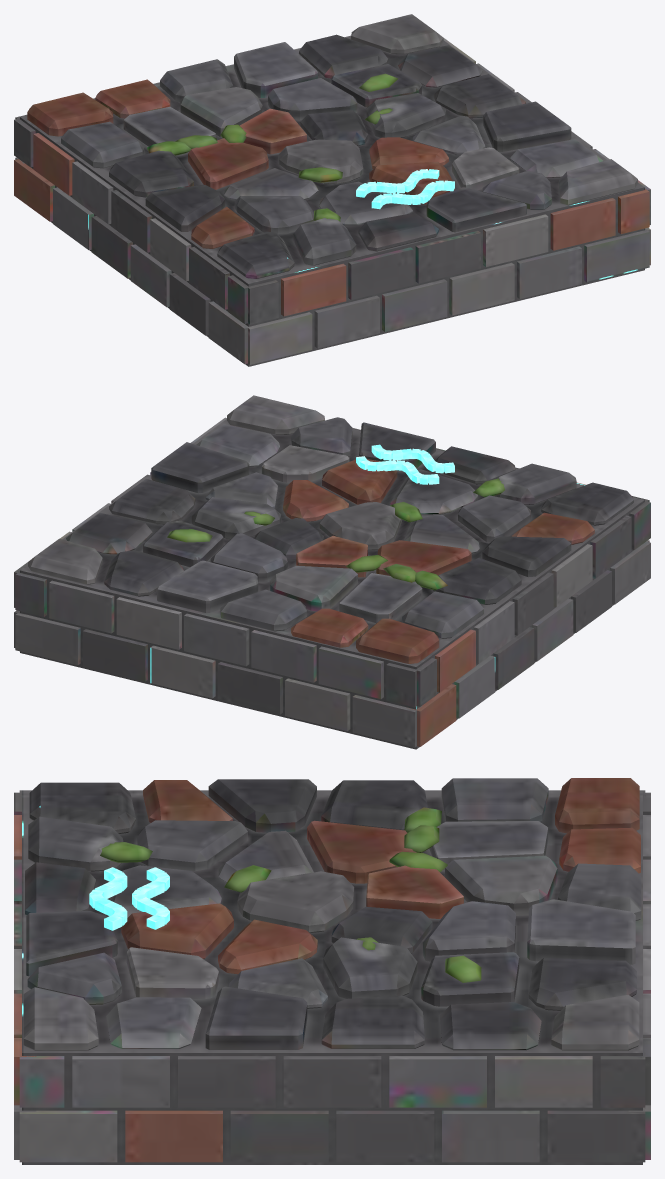
The model's file is plate_1_water.glb.
3 views of the same model, one above another, from view 1: azimuth 30°, elevation 25°; view 2: azimuth 150°, elevation 25°; view 3: azimuth 270°, elevation 25° (orthographic). The views are drawn at different scales.
Visible parts, largest first — view 1: plate_1_water; view 2: plate_1_water; view 3: plate_1_water.
Part boxes in pixels (bbox=[...]): plate_1_water: bbox=[14, 14, 650, 366]; plate_1_water: bbox=[14, 395, 650, 749]; plate_1_water: bbox=[14, 778, 650, 1164].
Size of the model in its own units: 2.01 by 0.484 by 2.01.
1 material, 1 textured.
